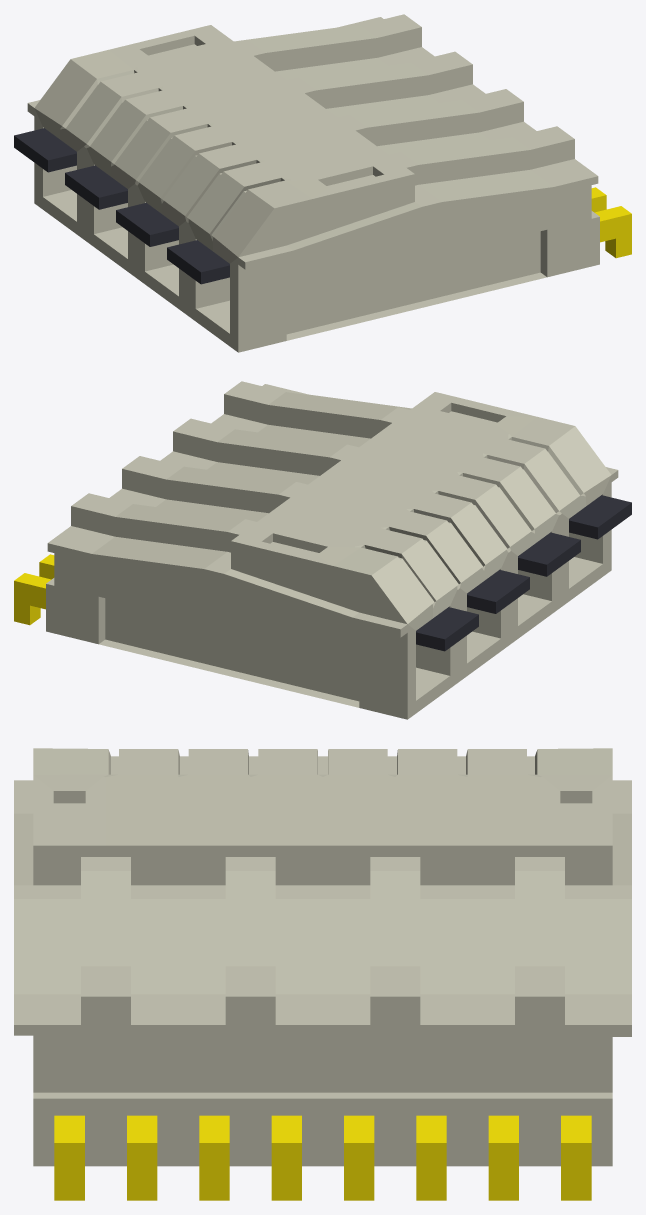
File: PlugNode_Start.fbx
The picture shows the model from 3 angles, top to bottom: view 1: azimuth 30°, elevation 25°; view 2: azimuth 150°, elevation 25°; view 3: azimuth 270°, elevation 25°; orthographic projection. The views are drawn at different scales.
Parts seen in each view (by area): view 1: PlugNode_Start; view 2: PlugNode_Start; view 3: PlugNode_Start.
Boxes of the visible parts, x1,y1,x2,y2 form: PlugNode_Start: [14, 14, 631, 352]; PlugNode_Start: [14, 381, 631, 719]; PlugNode_Start: [14, 748, 631, 1200].
Bounding box in the file's own units: 81.1 × 25.33 × 71.11.
